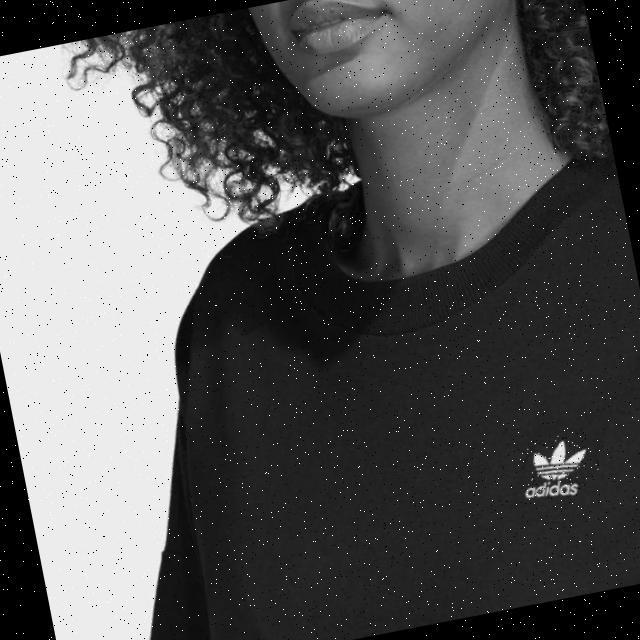Adidas: (519, 425, 604, 496)
